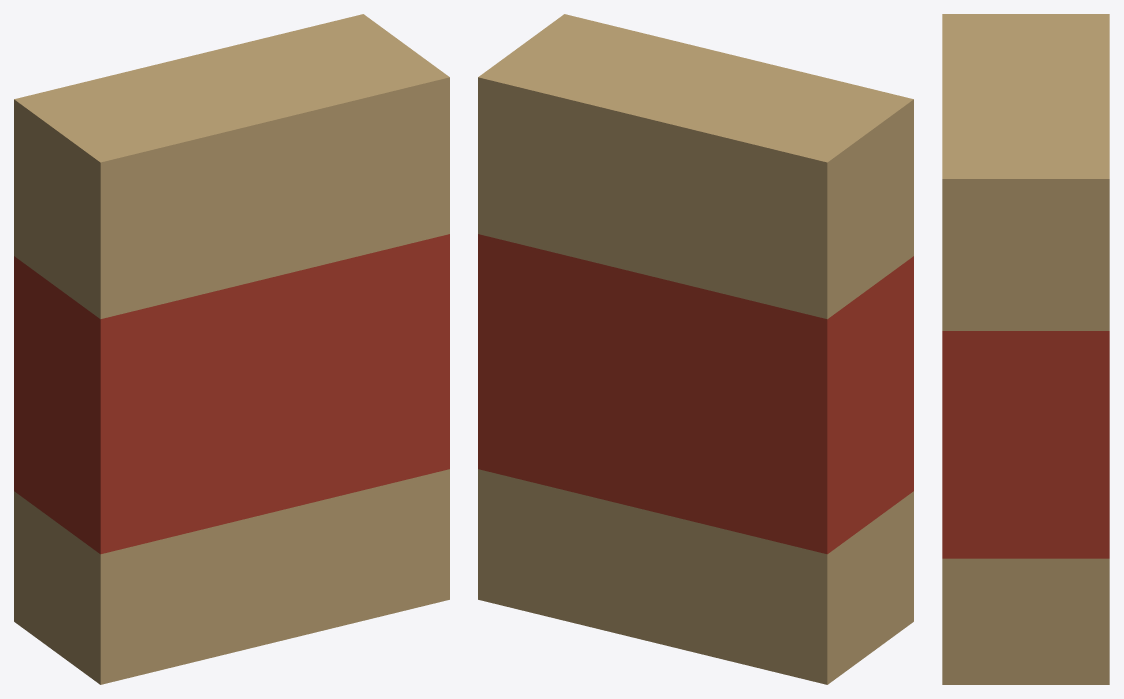
The model's file is crackers.glb.
The picture shows the model from 3 angles, left to right: view 1: azimuth 30°, elevation 25°; view 2: azimuth 150°, elevation 25°; view 3: azimuth 270°, elevation 25°; orthographic projection. The views are drawn at different scales.
Parts seen in each view (by area): view 1: package:carton; view 2: package:carton; view 3: package:carton.
Boxes of the visible parts, left/top/right/bottom form: package:carton: left=14, top=14, right=449, bottom=684; package:carton: left=478, top=14, right=913, bottom=684; package:carton: left=942, top=14, right=1109, bottom=684.
Bounding box in the file's own units: 0.14 × 0.2 × 0.06.
